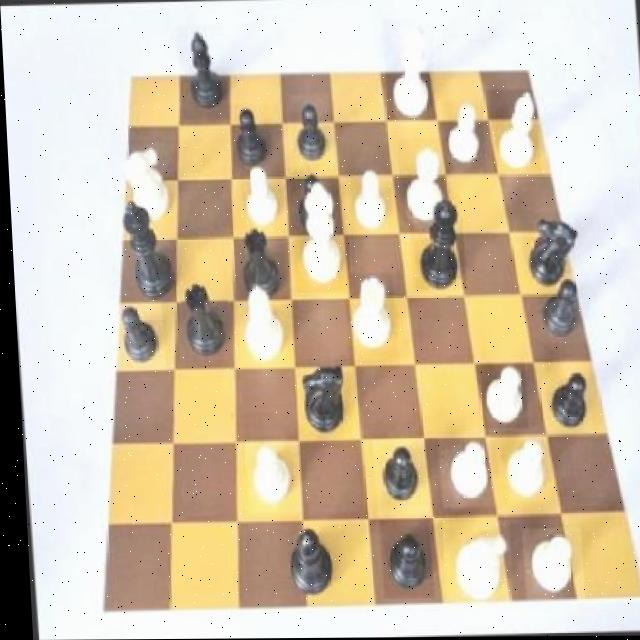bishop: (272, 515, 336, 609), (175, 25, 226, 119)
black-bishop: (111, 191, 178, 299)
black-king: (517, 212, 583, 300), (290, 360, 349, 439)
black-knight: (367, 439, 424, 516), (373, 519, 427, 598), (534, 271, 585, 345), (109, 304, 163, 372), (284, 94, 333, 167), (536, 365, 588, 431), (284, 172, 334, 237), (227, 105, 271, 169)
black-pawn: (405, 194, 463, 291)
black-queen: (230, 217, 285, 303), (176, 279, 229, 368)
black-rook: (233, 271, 285, 364), (489, 89, 539, 174)
white-bishop: (287, 178, 349, 294)
white-king: (437, 522, 507, 605), (111, 144, 177, 231)
white-knight: (516, 528, 579, 601), (239, 438, 295, 514), (344, 161, 397, 239), (433, 436, 489, 508), (470, 362, 523, 429), (498, 428, 545, 503), (439, 100, 485, 171), (238, 166, 283, 236)
white-pawn: (381, 19, 435, 120)
white-queen: (342, 273, 395, 369), (395, 137, 449, 224)
